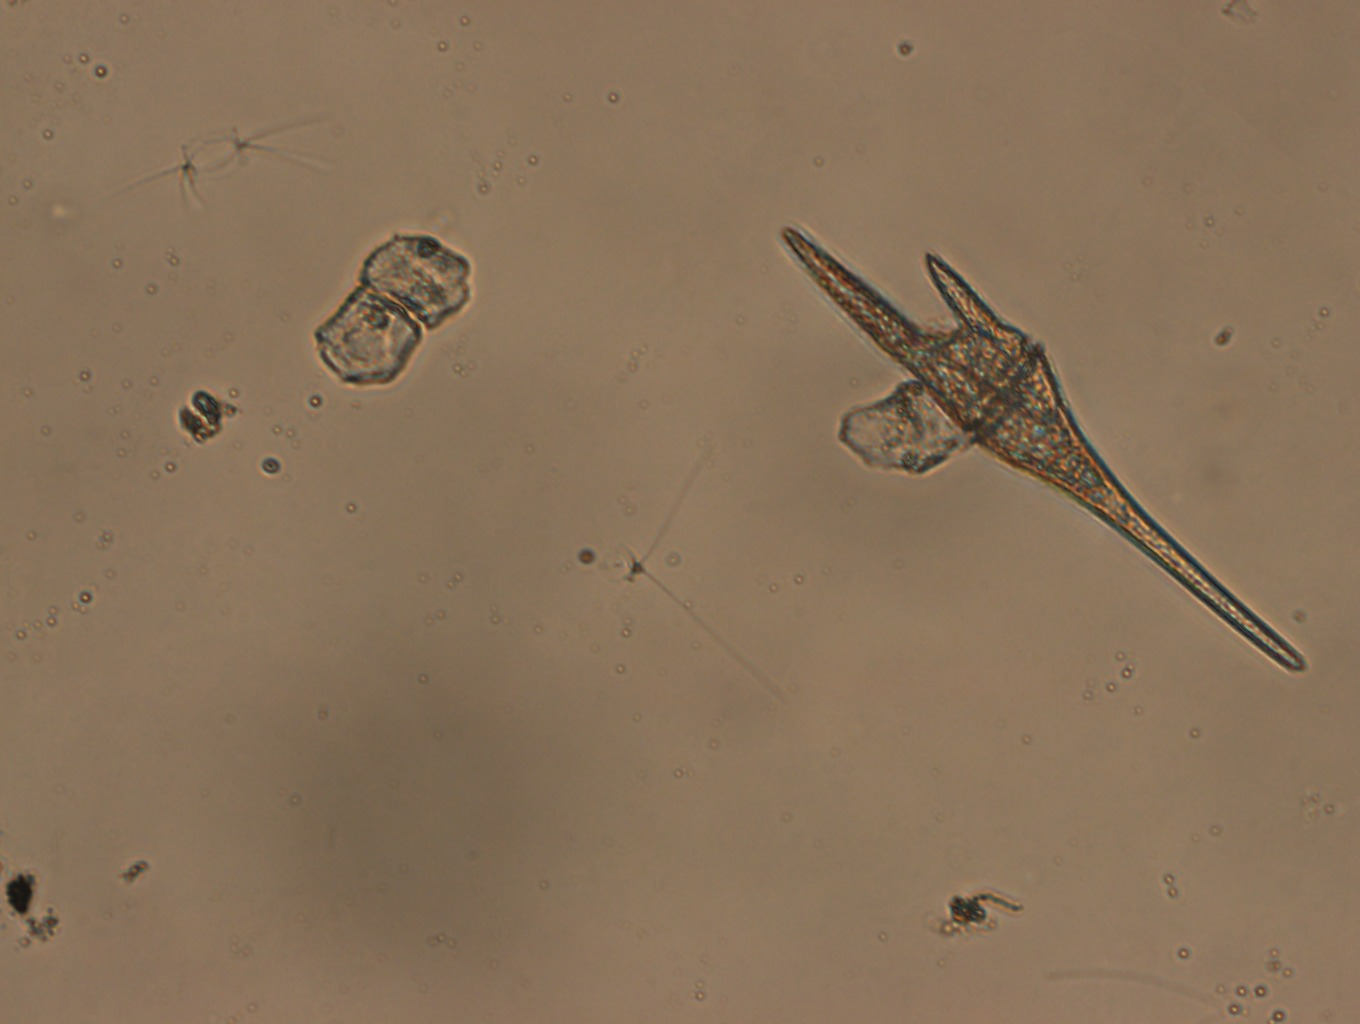ceratium furca: (776, 219, 1311, 680)
chaetoceros: (108, 110, 341, 214)
